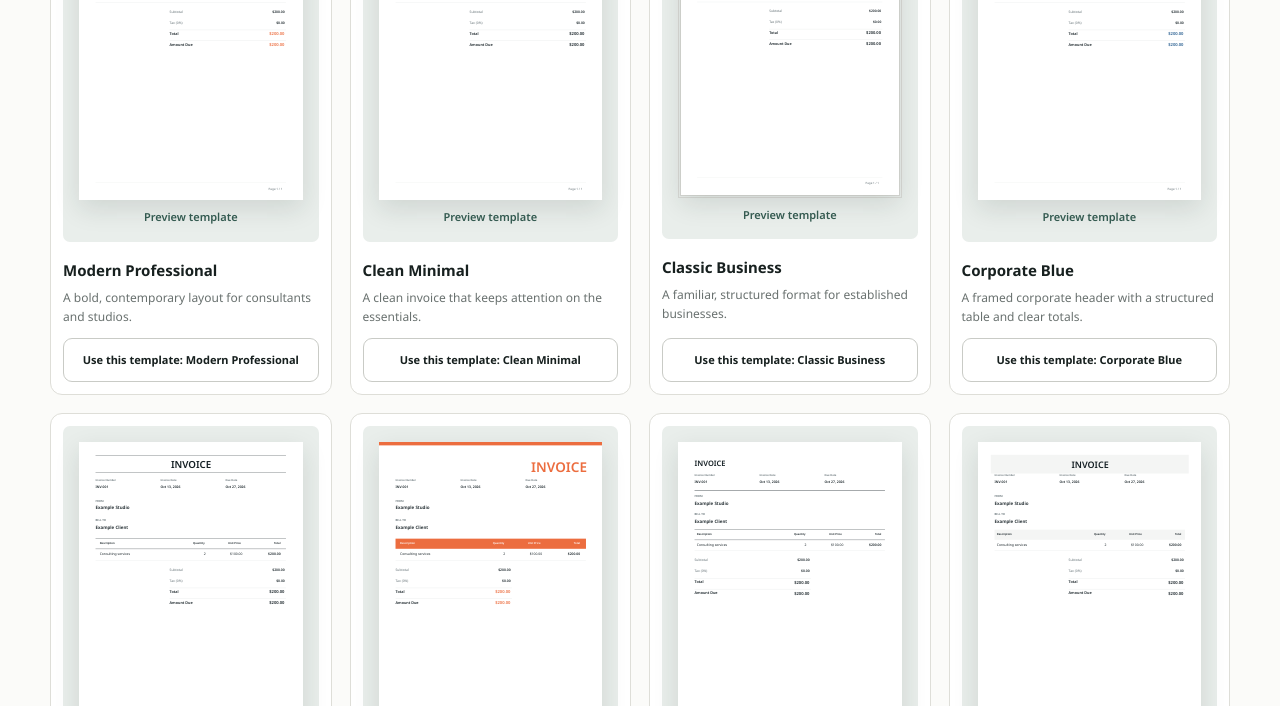
it: visual invoice workflow › selects minimal before asking for personal details
The width and height of the screenshot is (1280, 706).
(page scrolled)
Check: the button "Business or full name" is not shown
Click the button "Use this template: Clean Minimal" at (490, 360), box x1=362 y1=338 x2=618 y2=382
(page scrolled)
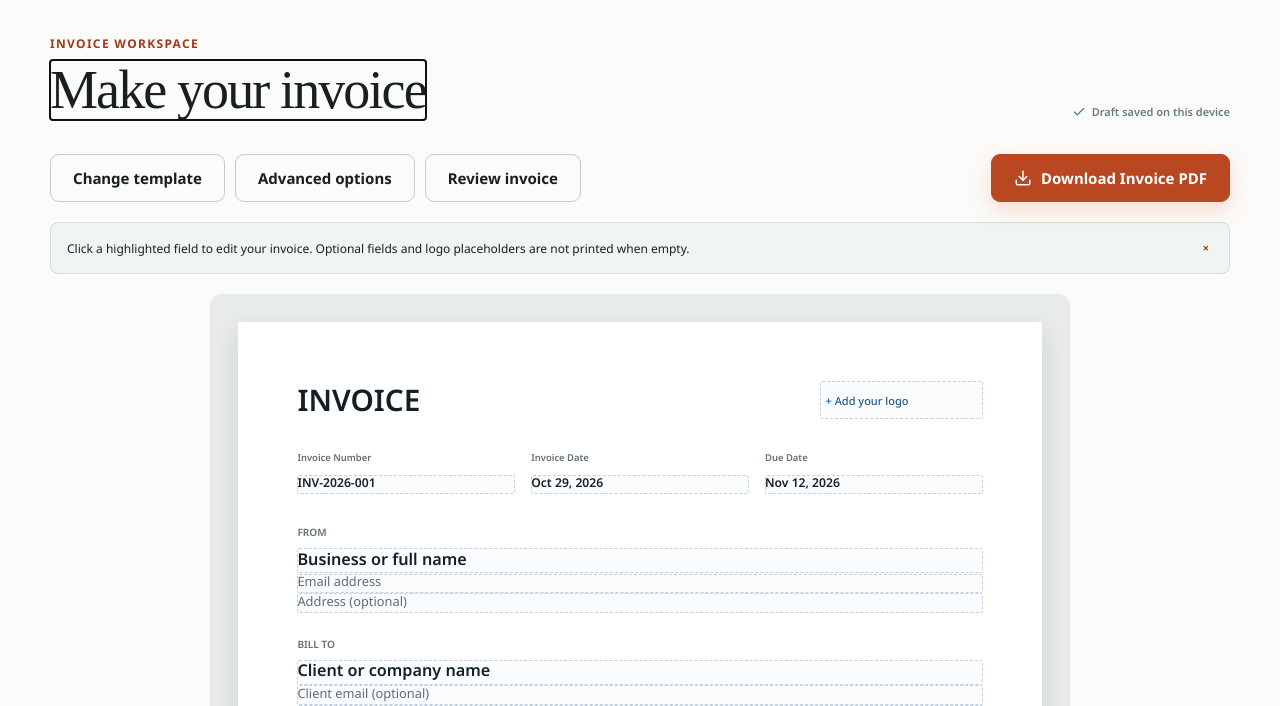
Check: the button named "Business or full name" is shown, box x1=297 y1=548 x2=982 y2=574
